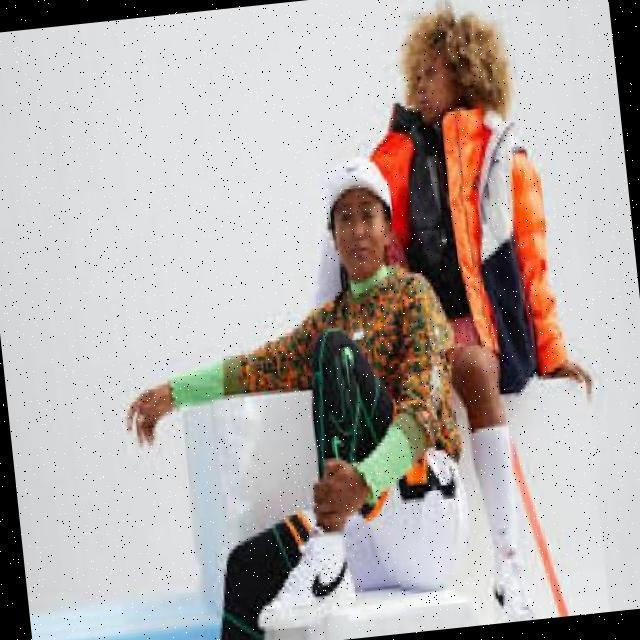Nike: (304, 551, 350, 599), (424, 451, 459, 498)
